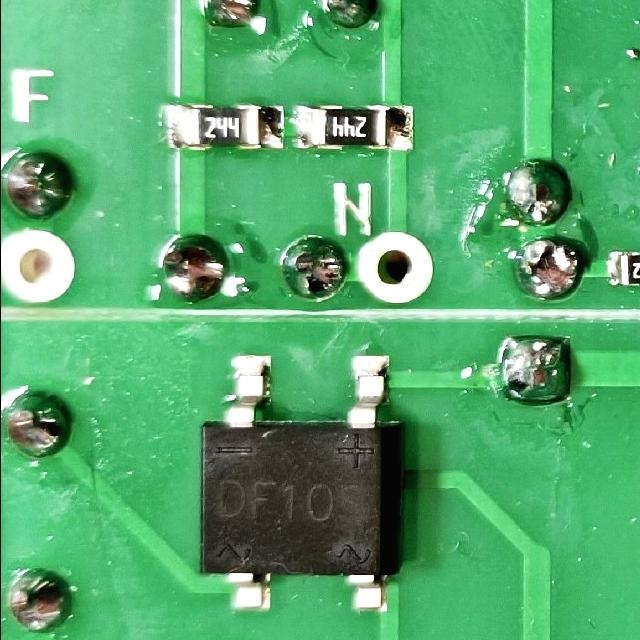chip-resistor: (292, 101, 416, 152), (163, 101, 285, 151)
ic: (192, 346, 404, 615)
